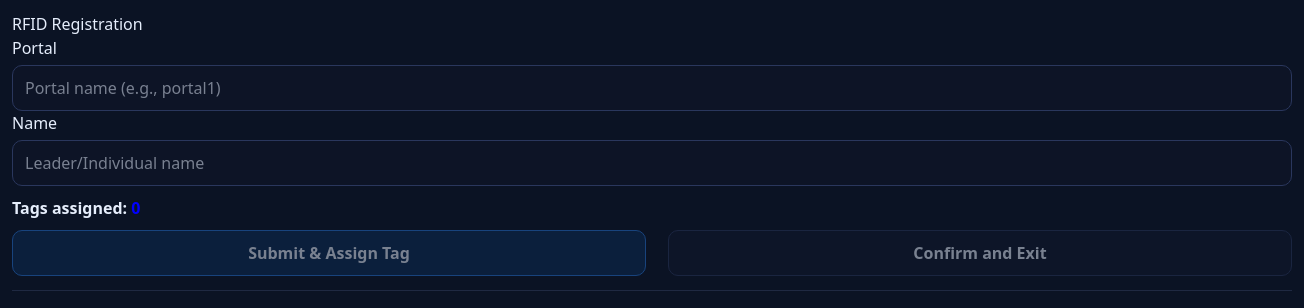
Scenario: RegistrationForm Component › should enable submit when fields are filled
Type "portal1" into the field with placeholder "Portal name (e.g., portal1)". click: (652, 88)
box: [12,65,1292,111]
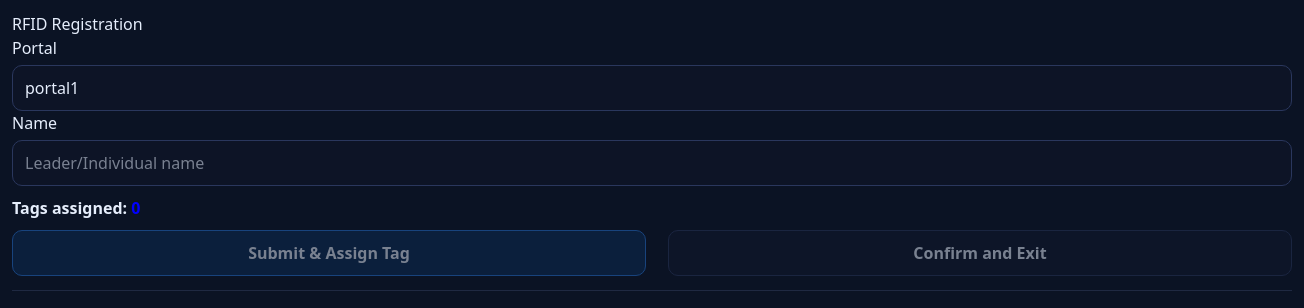
Type "John Doe" into the field with placeholder "Leader/Individual name". click: (652, 163)
box: [12,140,1292,186]
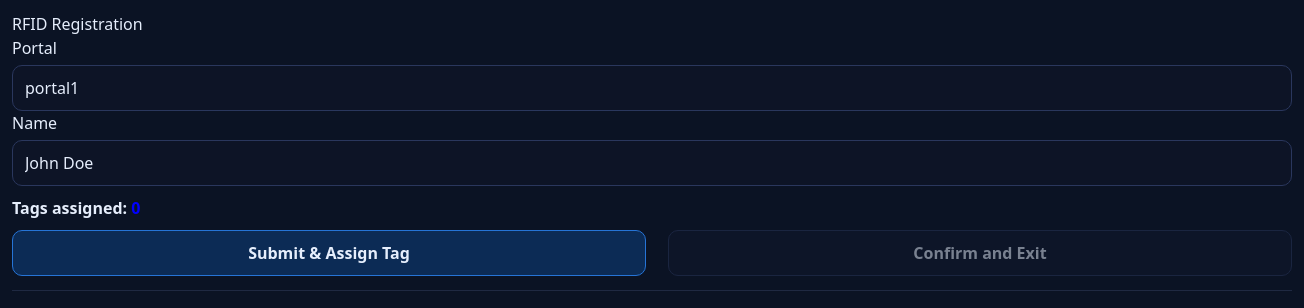
Check: the button "Submit & Assign Tag" is enabled, box [12,230,646,276]
